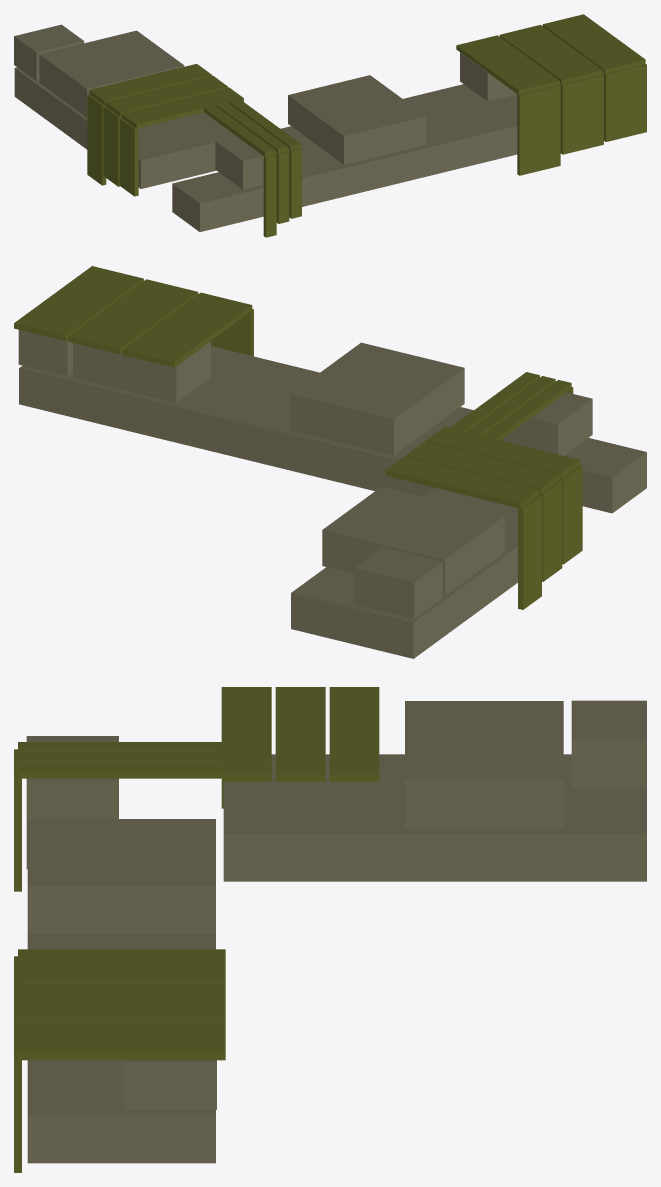
Rendered from SM_PretilEsquinaPaso_v4_Red_e2_MuyDanado_LOD1.fbx.
3 views of the same model, one above another, from view 1: azimuth 30°, elevation 25°; view 2: azimuth 150°, elevation 25°; view 3: azimuth 270°, elevation 25° (orthographic). The views are drawn at different scales.
Parts seen in each view (by area): view 1: SM_pretil_azotea_v58_LOD1; view 2: SM_pretil_azotea_v58_LOD1; view 3: SM_pretil_azotea_v58_LOD1.
Boxes of the visible parts, x1,y1,x2,y2 form: SM_pretil_azotea_v58_LOD1: (14, 14, 646, 237); SM_pretil_azotea_v58_LOD1: (14, 266, 646, 658); SM_pretil_azotea_v58_LOD1: (14, 687, 646, 1172).
Size of the model in its own units: 4.44 by 0.7939 by 3.23.
